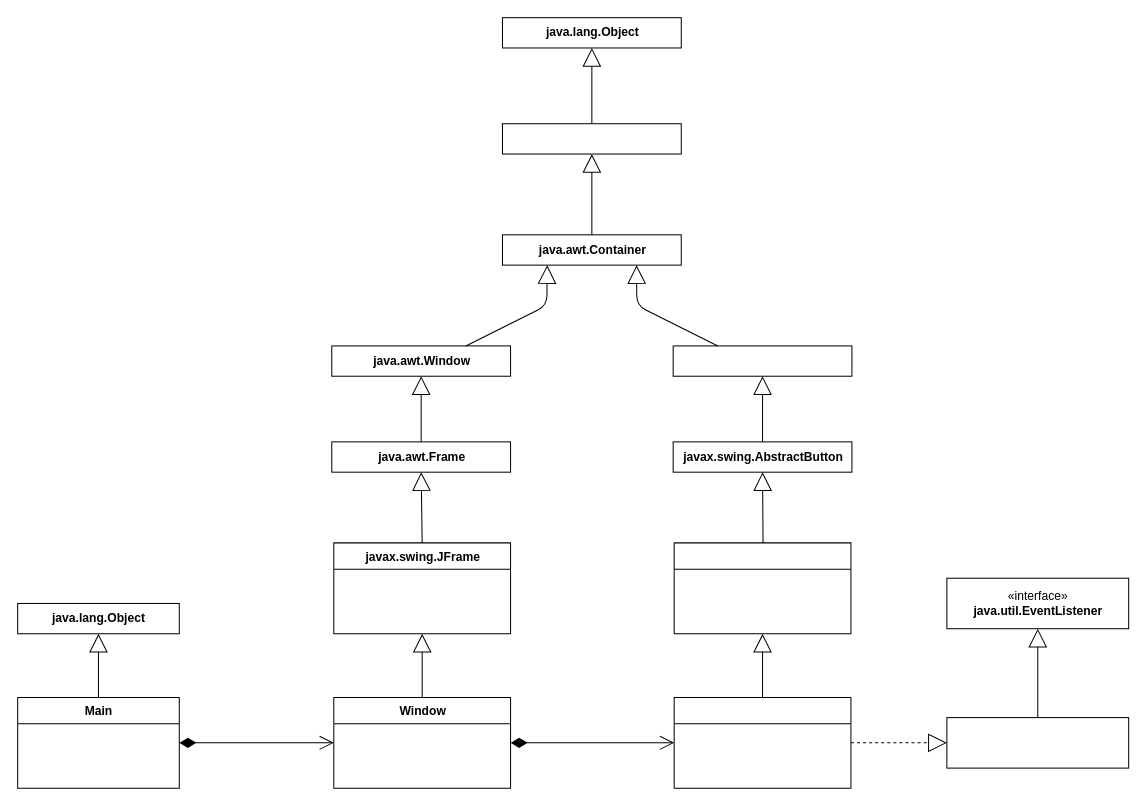
Image size: 1146x806. Some labels were removed from this diagram. The shapes that lost their labels are listed below. From the top down, each one's box as (x1, y1, x2, y2) in pixels, then its label:
(501, 123, 681, 154): java.awt.Component
(672, 345, 852, 376): javax.swing.JComponent
(673, 542, 851, 634): javax.swing.JButton
(673, 696, 851, 788): MyButton
(946, 717, 1129, 768): «interface» java.awt.event.ActionListener
